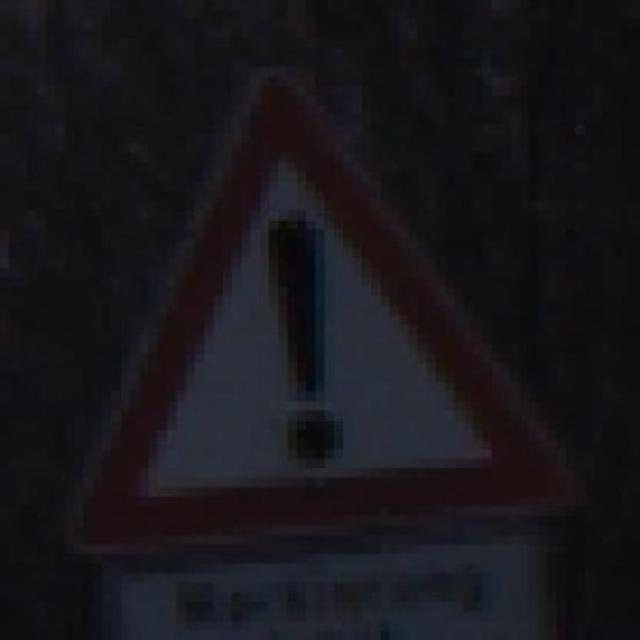Attention Please-: (46, 57, 585, 545)
